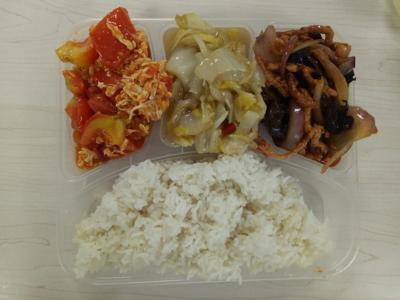jdxhs: (47, 13, 174, 165)
rice: (67, 155, 343, 293)
